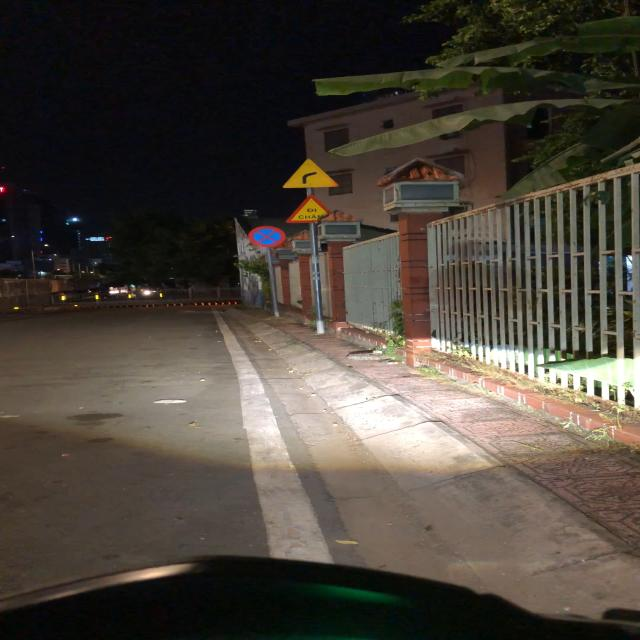Bien bao cam dung xe va do xe: (246, 224, 292, 250)
Bien bao cho ngoat nguy hiem: (282, 156, 340, 190)
Bien bao di cham: (287, 192, 338, 224)
